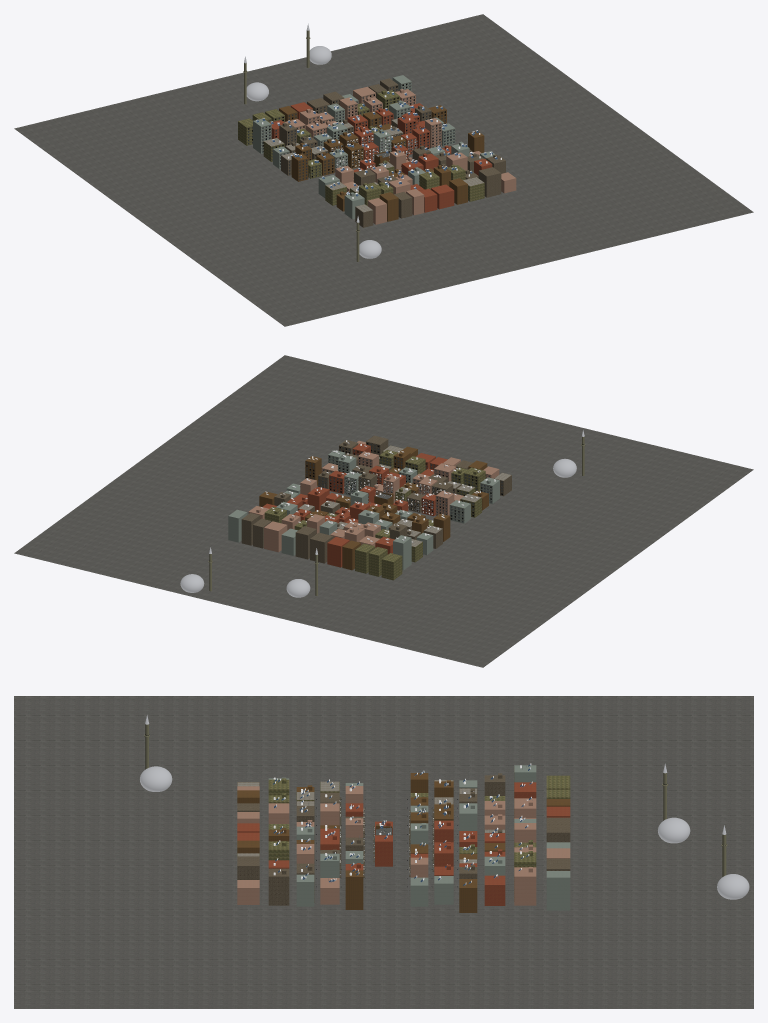
File: cati.glb
3 renders of one model, top to bottom at view 1: azimuth 30°, elevation 25°; view 2: azimuth 150°, elevation 25°; view 3: azimuth 270°, elevation 25°, orthographic. The views are drawn at different scales.
Parts seen in each view (by area): view 1: m_asphalt_02, m_painted_plaster_wall, m_yellow_plaster_02, m_worn_plaster_wall, m_plaster_green, m_red_plaster_weathered, m_white_plaster_rough_02, m_solar.001, m_slab, m_wire, m_dirty_concrete; view 2: m_asphalt_02, m_worn_plaster_wall, m_plaster_green, m_painted_plaster_wall, m_white_plaster_rough_02, m_red_plaster_weathered, m_yellow_plaster_02, m_solar.001, m_slab, m_wire, m_dirty_concrete; view 3: m_asphalt_02, m_painted_plaster_wall, m_plaster_green, m_red_plaster_weathered, m_worn_plaster_wall, m_yellow_plaster_02, m_white_plaster_rough_02, m_wire, m_solar.001, m_dirty_concrete, m_slab.
Boxes of the visible parts, bbox=[...] form: m_asphalt_02: bbox=[14, 14, 753, 326]; m_painted_plaster_wall: bbox=[284, 86, 516, 224]; m_yellow_plaster_02: bbox=[279, 105, 484, 221]; m_worn_plaster_wall: bbox=[279, 78, 505, 227]; m_plaster_green: bbox=[253, 75, 495, 219]; m_red_plaster_weathered: bbox=[270, 102, 492, 212]; m_white_plaster_rough_02: bbox=[238, 30, 484, 261]; m_solar.001: bbox=[248, 83, 501, 198]; m_slab: bbox=[247, 82, 455, 178]; m_wire: bbox=[244, 23, 381, 258]; m_dirty_concrete: bbox=[264, 118, 483, 212]; m_asphalt_02: bbox=[14, 355, 753, 667]; m_worn_plaster_wall: bbox=[241, 435, 511, 563]; m_plaster_green: bbox=[228, 450, 499, 570]; m_painted_plaster_wall: bbox=[248, 440, 499, 552]; m_white_plaster_rough_02: bbox=[208, 436, 585, 595]; m_red_plaster_weathered: bbox=[262, 443, 447, 567]; m_yellow_plaster_02: bbox=[259, 446, 488, 570]; m_solar.001: bbox=[261, 440, 502, 542]; m_slab: bbox=[305, 442, 503, 520]; m_wire: bbox=[180, 430, 584, 597]; m_dirty_concrete: bbox=[298, 445, 511, 546]; m_asphalt_02: bbox=[14, 696, 753, 1008]; m_painted_plaster_wall: bbox=[237, 786, 570, 905]; m_plaster_green: bbox=[268, 765, 570, 910]; m_red_plaster_weathered: bbox=[237, 782, 570, 905]; m_worn_plaster_wall: bbox=[237, 773, 570, 905]; m_yellow_plaster_02: bbox=[237, 773, 570, 912]; m_white_plaster_rough_02: bbox=[144, 724, 727, 876]; m_wire: bbox=[140, 715, 749, 899]; m_solar.001: bbox=[273, 763, 532, 895]; m_dirty_concrete: bbox=[237, 780, 504, 863]; m_slab: bbox=[314, 766, 514, 902].
Bounding box in the file's own units: 500 × 51.25 × 500.
31 materials, 31 textured.
